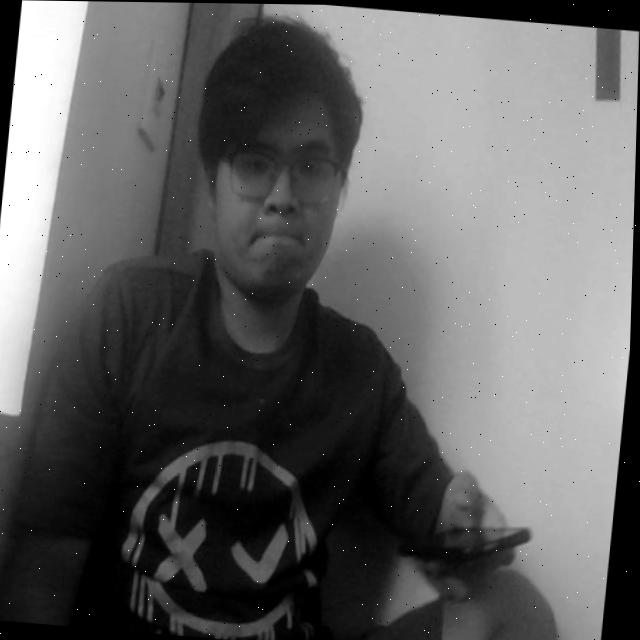phone: (425, 498, 550, 593)
